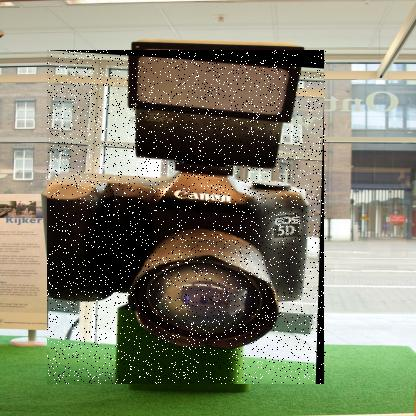Camera: (49, 51, 329, 386)
